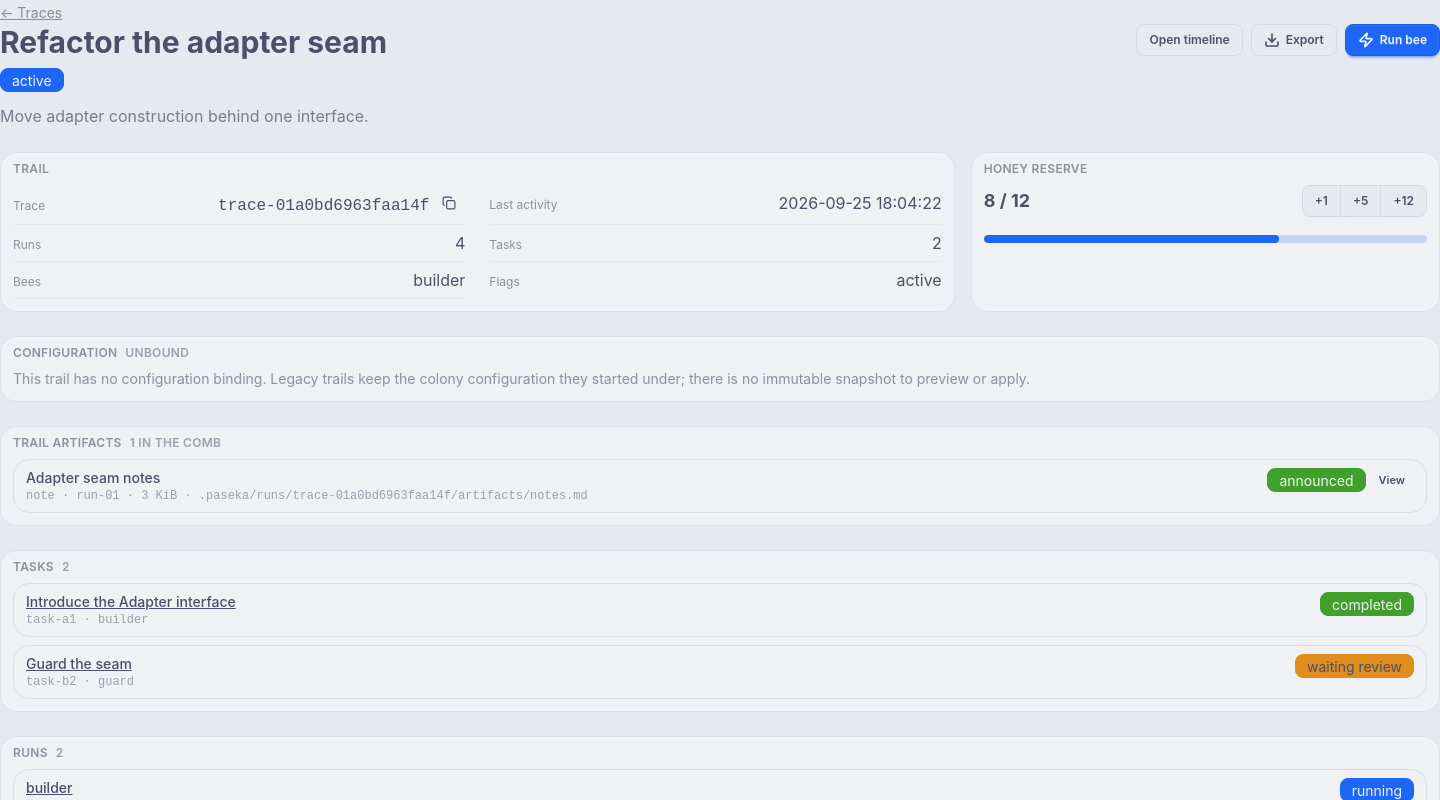
Test case: trace detail › reports a failed export as an error toast
Check: the heading "Refactor the adapter seam" is shown, box top-left (0, 24), bottom-right (387, 60)
Click the button "Export".
click(1294, 40)  # box top-left (1251, 24), bottom-right (1337, 56)
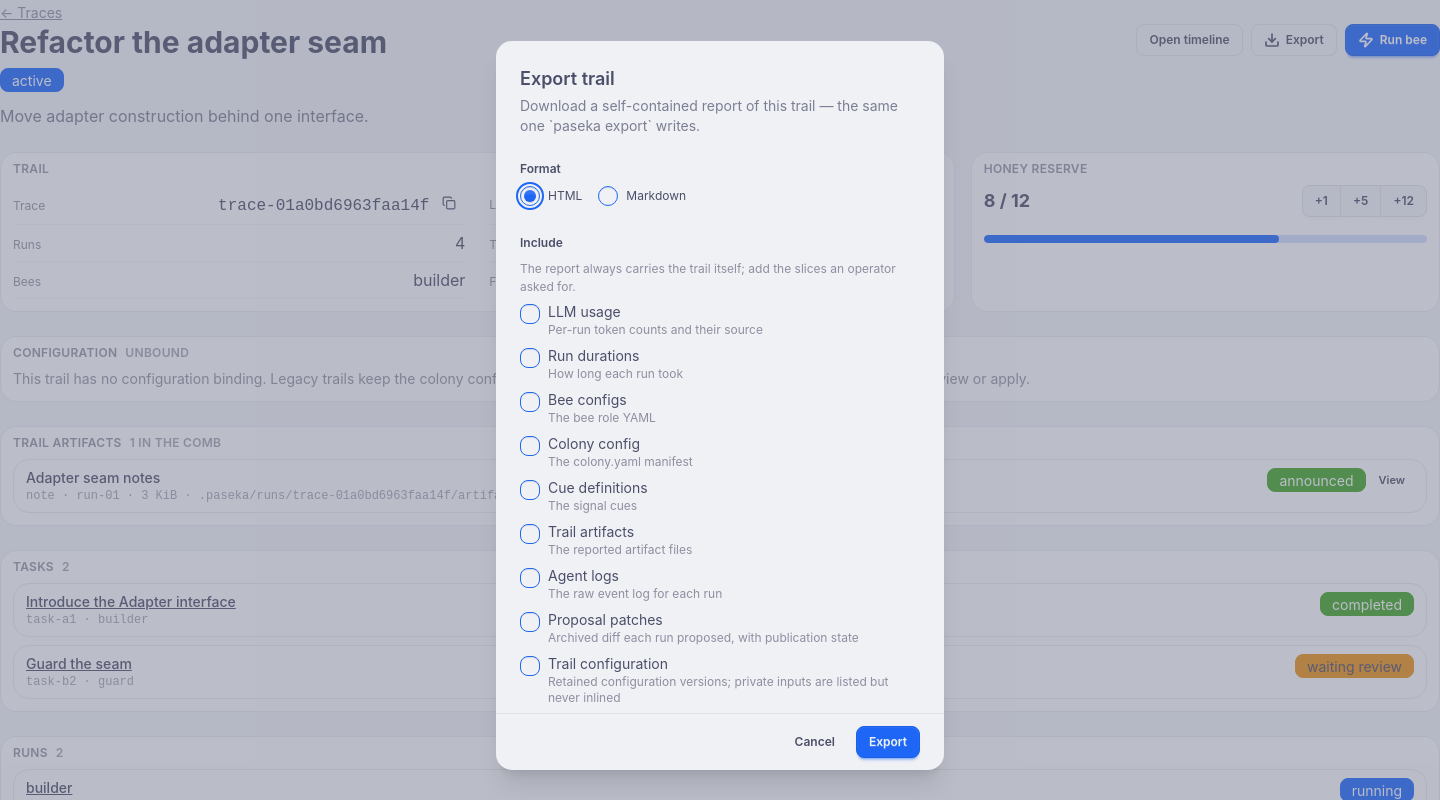
Click the button "Export".
click(888, 742)  # box top-left (856, 726), bottom-right (920, 758)
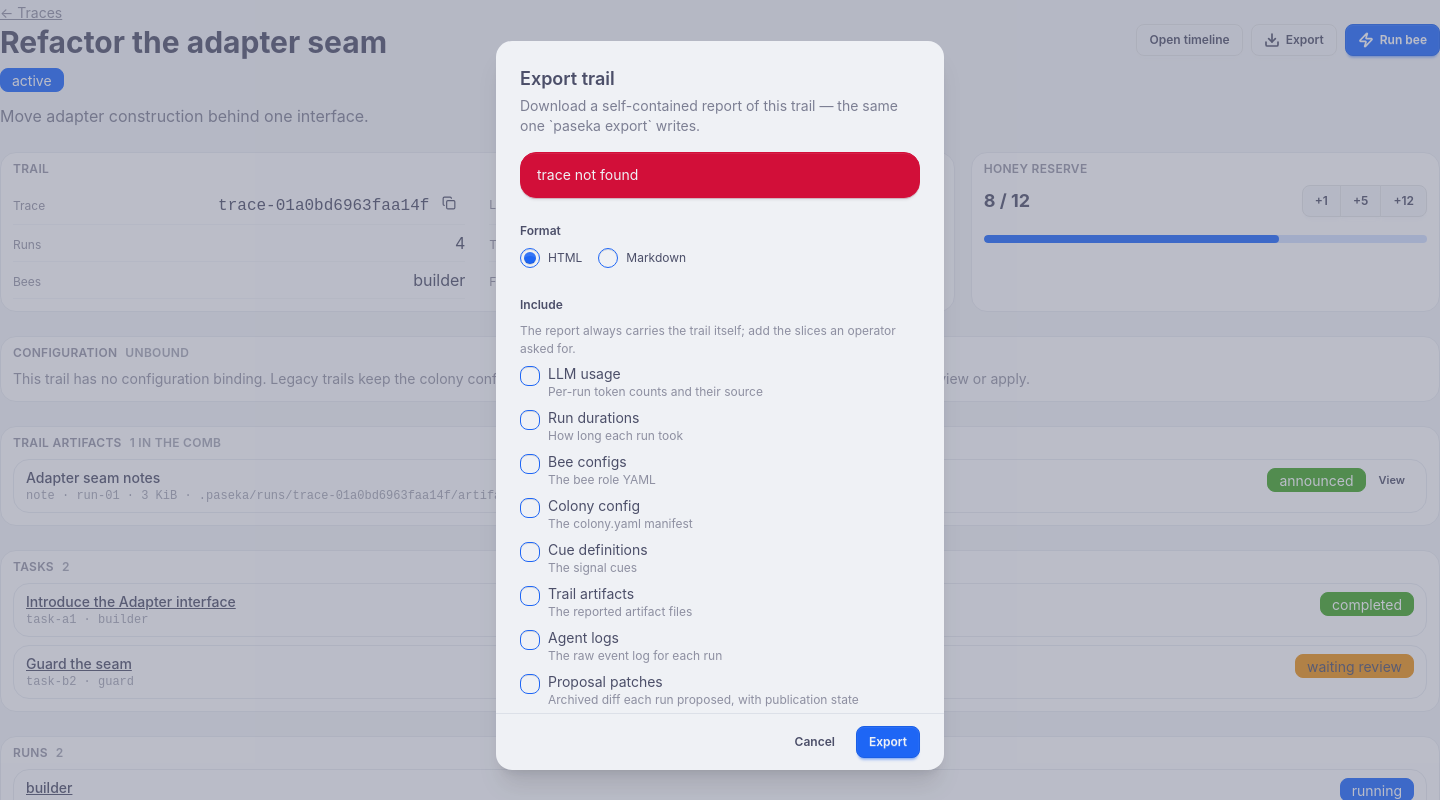
Check: the dialog is shown, box top-left (496, 40), bottom-right (944, 770)
Check: the message reads "trace not found", box top-left (537, 166), bottom-right (638, 182)
